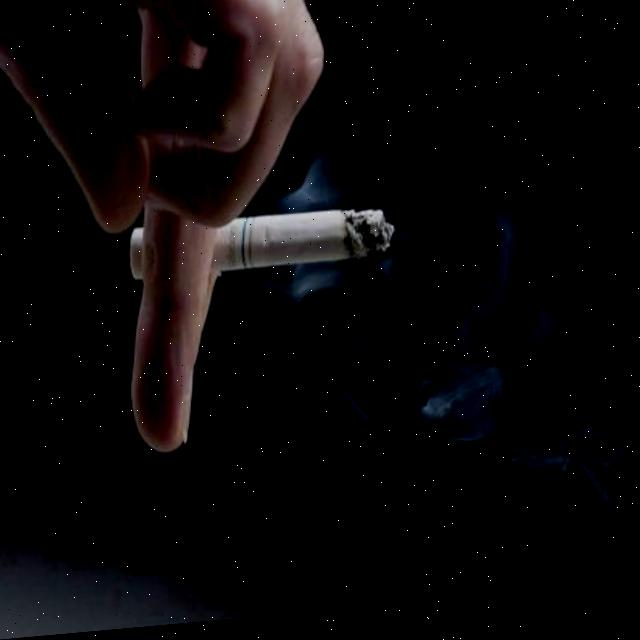cigarette: (128, 210, 395, 283)
